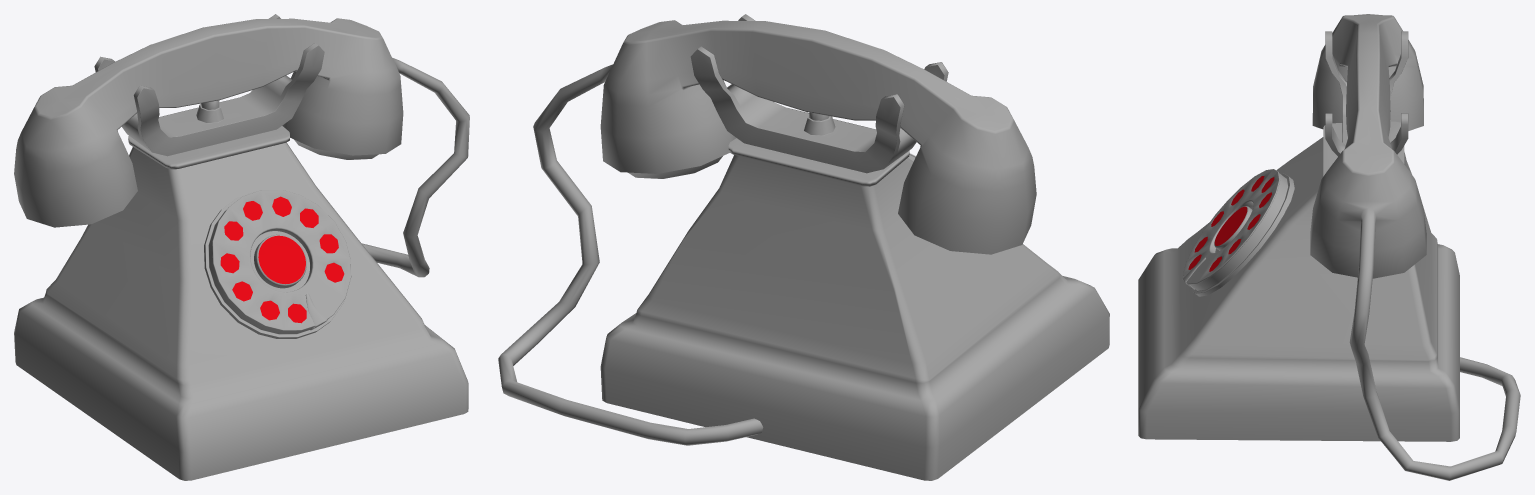
The model's file is SM_Telephone_B.fbx.
3 views of the same model, side by side, from view 1: azimuth 30°, elevation 25°; view 2: azimuth 150°, elevation 25°; view 3: azimuth 270°, elevation 25° (orthographic). The views are drawn at different scales.
Visible parts, largest first — view 1: SM_Telephone_B_LOD0; view 2: SM_Telephone_B_LOD0; view 3: SM_Telephone_B_LOD0.
Boxes of the visible parts, bbox=[...] form: SM_Telephone_B_LOD0: bbox=[14, 14, 469, 480]; SM_Telephone_B_LOD0: bbox=[498, 14, 1109, 480]; SM_Telephone_B_LOD0: bbox=[1138, 14, 1520, 480].
Size of what is drawn, in the model's own units: 0.4407 by 0.3128 by 0.3407.
